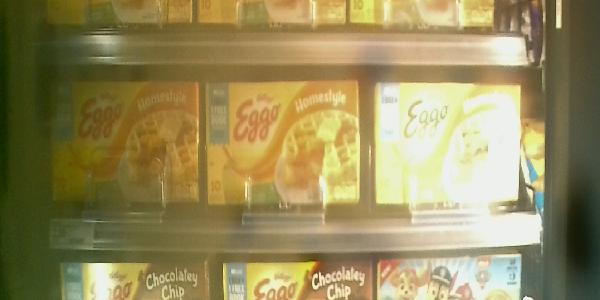icecream: (206, 78, 364, 215), (43, 78, 204, 210), (374, 77, 526, 212)
